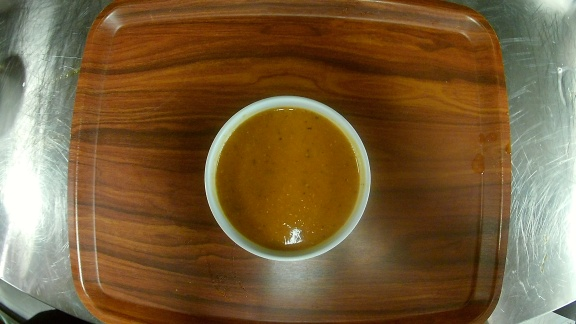ezogelin: (201, 96, 371, 261)
